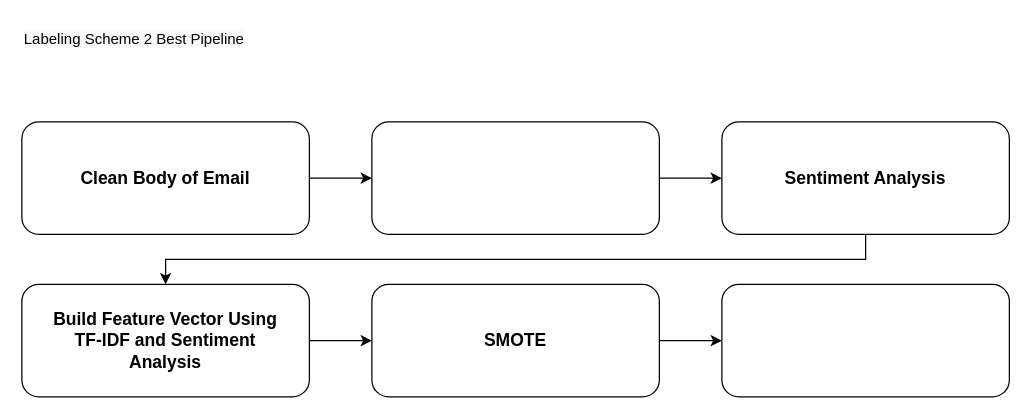
Some shapes in this 1031 by 419 pixel diagram are drawn without their labels. The box of each missing label's shape, as (x1, y1, x2, y2) in pixels:
Support Vector Machine: (721, 283, 1009, 397)
TF-IDF: (371, 121, 659, 234)
